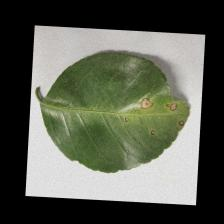canker: (120, 85, 188, 139)
